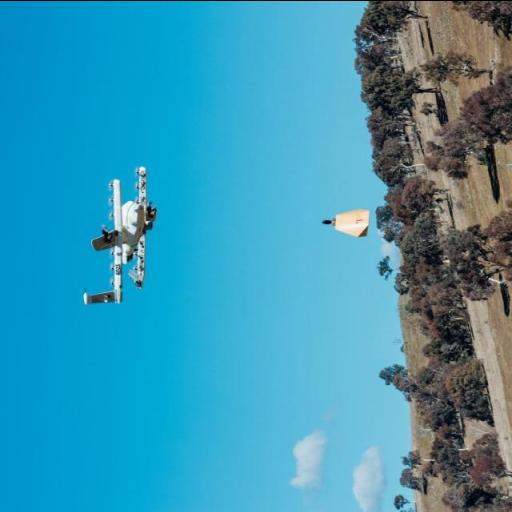uav: (80, 162, 158, 308)
